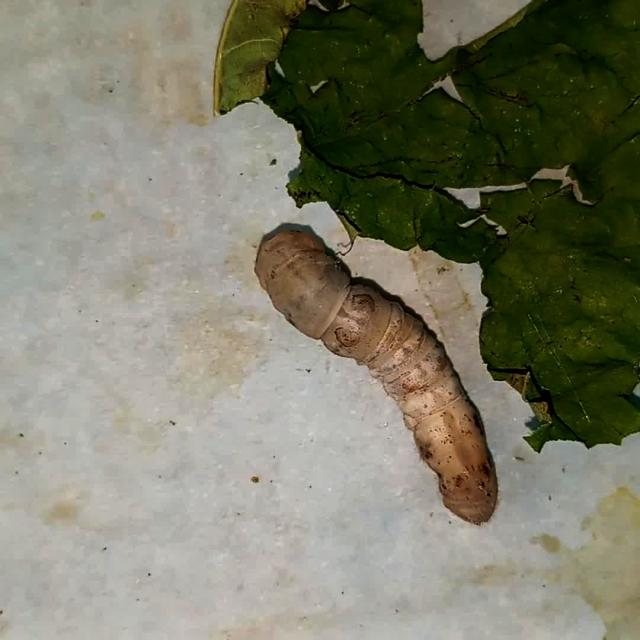Grasserie: (213, 197, 544, 547)
